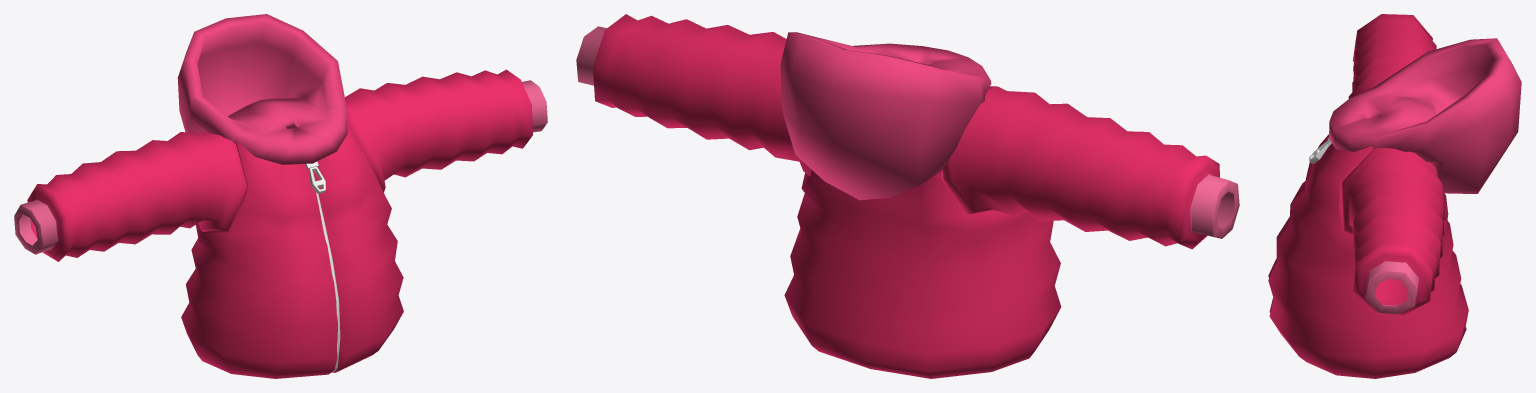
Rendered from Outerwear_Pink_010.glb.
3 renders of one model, left to right at view 1: azimuth 30°, elevation 25°; view 2: azimuth 150°, elevation 25°; view 3: azimuth 270°, elevation 25°, orthographic. The views are drawn at different scales.
Parts seen in each view (by area): view 1: Outerwear_Pink_010; view 2: Outerwear_Pink_010; view 3: Outerwear_Pink_010.
Boxes of the visible parts, left/top/right/bottom form: Outerwear_Pink_010: left=14, top=14, right=547, bottom=378; Outerwear_Pink_010: left=576, top=14, right=1239, bottom=378; Outerwear_Pink_010: left=1268, top=14, right=1521, bottom=378.
Bounding box in the file's own units: 1.3 × 0.677 × 0.5446.
Materials: 1 (1 with a texture image).
